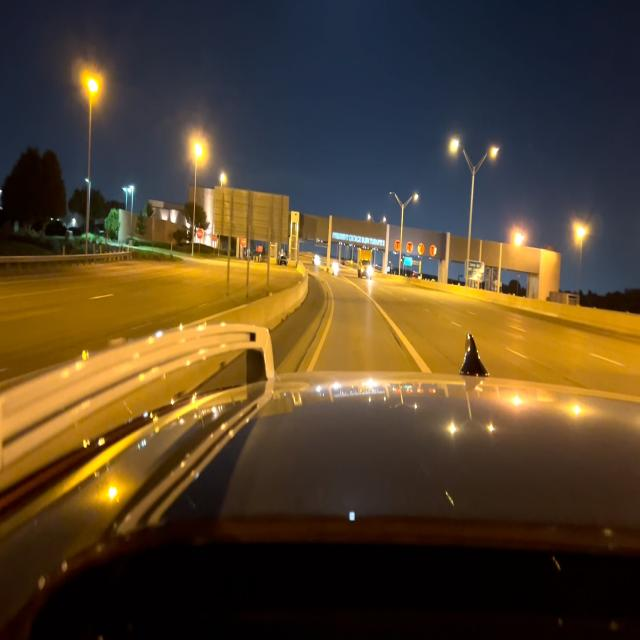back-of-sign: (212, 183, 290, 249)
